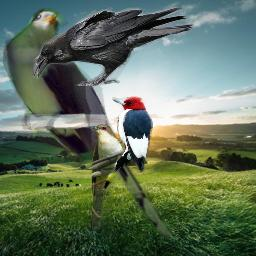Crow: (33, 7, 194, 86)
Cuckoo: (3, 8, 184, 242), (88, 124, 124, 231)
Woodpecker: (112, 94, 153, 175)
